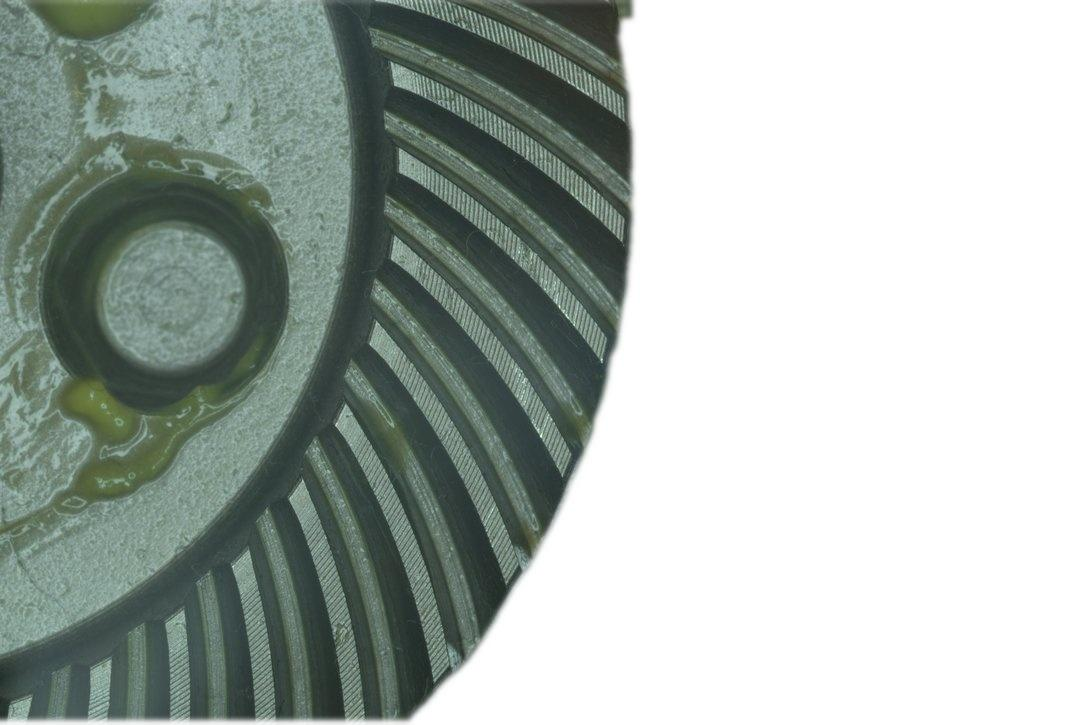defect: (333, 622, 348, 645)
